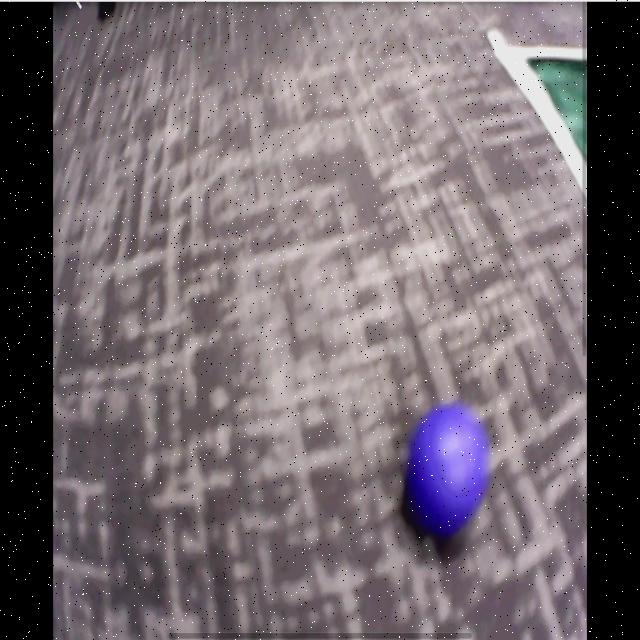ball: (414, 407, 490, 531)
